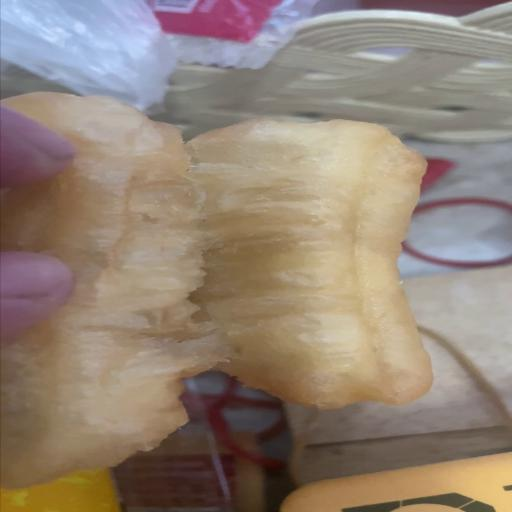street_golden_defect: (0, 119, 435, 489)
street_golden_good: (276, 452, 511, 512)
